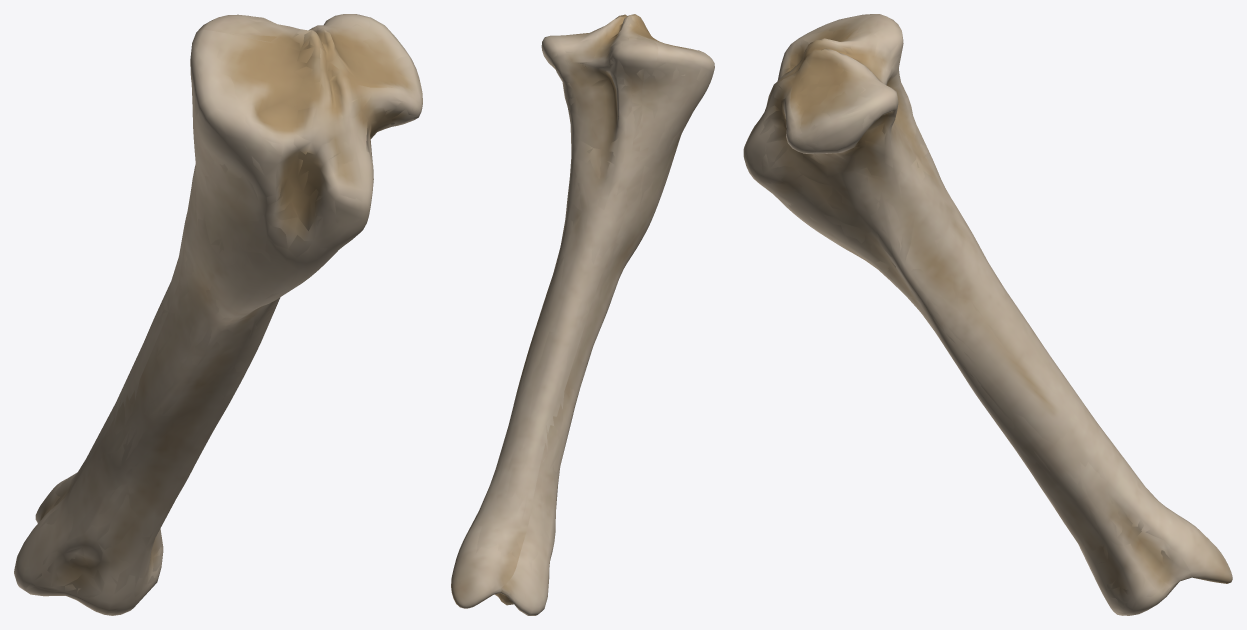
The model's file is L Tibia.fbx.
3 views of the same model, side by side, from view 1: azimuth 30°, elevation 25°; view 2: azimuth 150°, elevation 25°; view 3: azimuth 270°, elevation 25° (orthographic). The views are drawn at different scales.
Parts seen in each view (by area): view 1: L Tibia, L Tibia low; view 2: L Tibia, L Tibia low; view 3: L Tibia, L Tibia low.
Part boxes in pixels (x1,y1,x2,y2): L Tibia: (14, 14, 422, 615); L Tibia low: (18, 14, 422, 615); L Tibia: (451, 14, 714, 615); L Tibia low: (457, 14, 712, 613); L Tibia: (743, 14, 1232, 615); L Tibia low: (744, 14, 1231, 615).
Size of the model in its own units: 12.89 by 40.2 by 30.79.
1 material, 1 textured.
